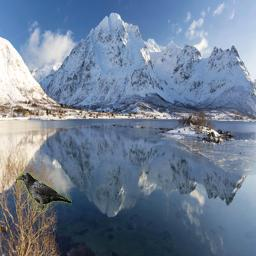Crow: (16, 172, 72, 212)
